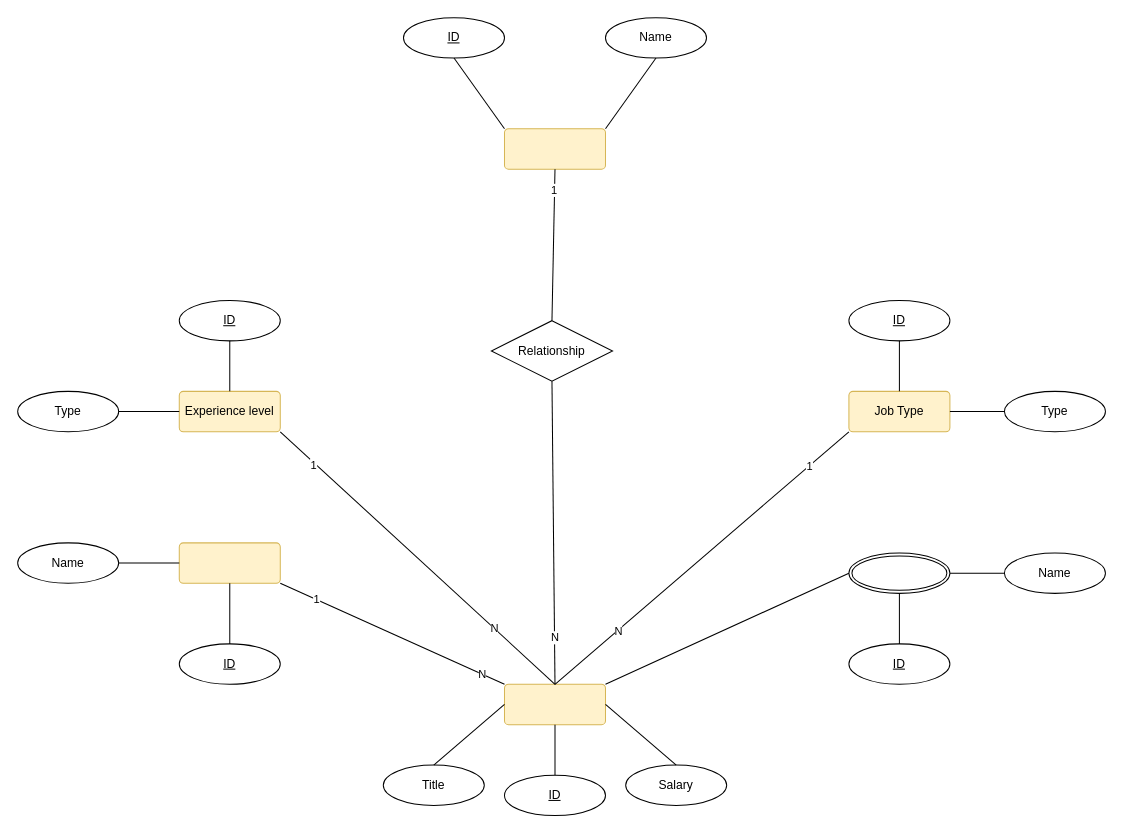
Image size: 1123x833. Some labels were removed from this diagram. The shapes that lost their labels are listed below. From the top down, each one's centre as x and y in pixels, then its label:
At point 554,148: "Countries".
At point 229,562: "Company".
At point 899,572: "Tags".
At point 554,704: "jobs offer".
